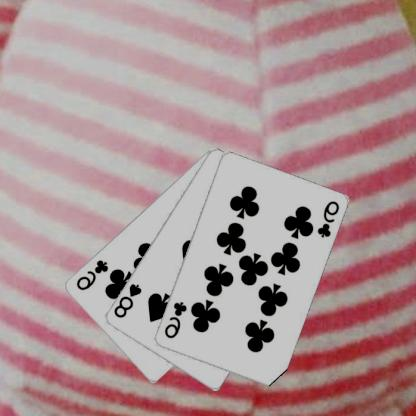8S: (113, 281, 144, 319)
9C: (74, 257, 111, 292), (164, 298, 190, 340), (316, 198, 342, 240)
